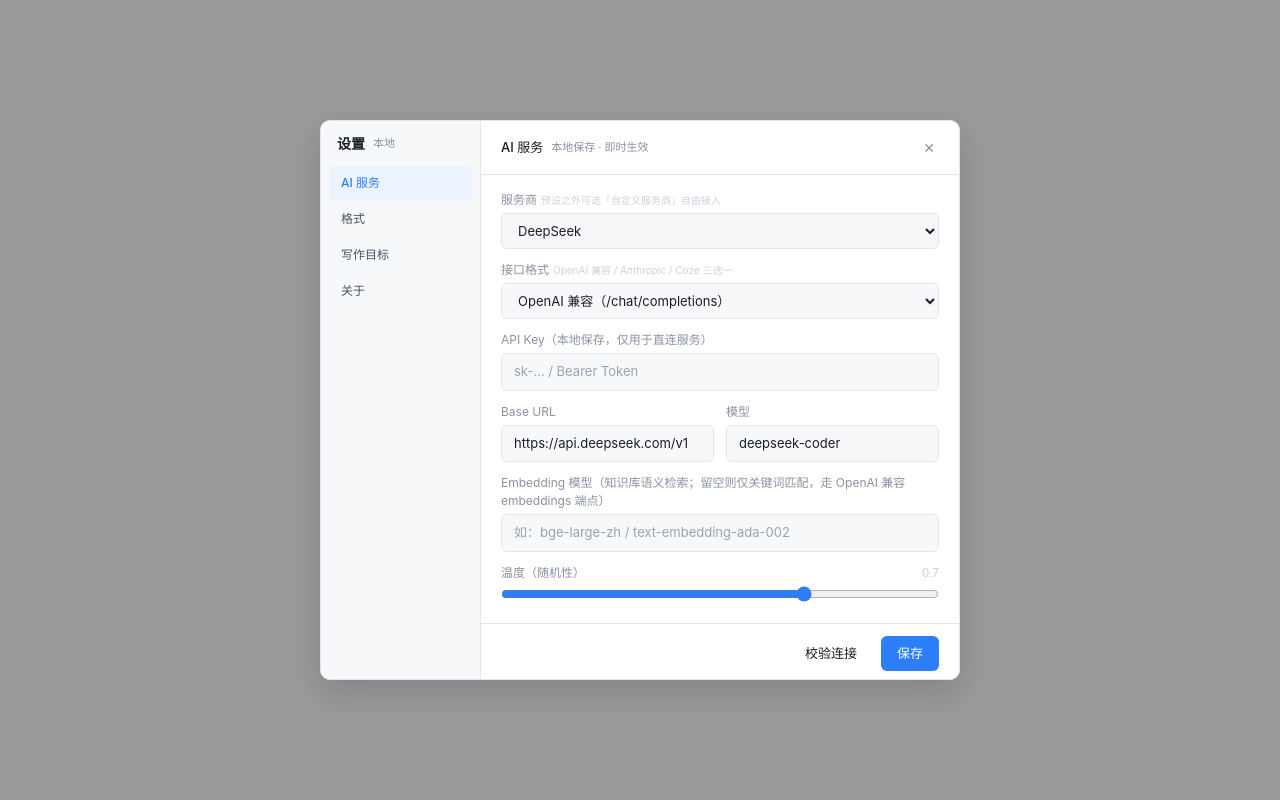
Test: 设置弹窗：左右分栏（左侧固定侧边栏 + 右侧内容区） › 写作目标分类：展示今日已写 / 今日目标 / 完成进度等字数指标
Click the button "写作目标": {"x": 400, "y": 255} left=329, top=238, right=472, bottom=272
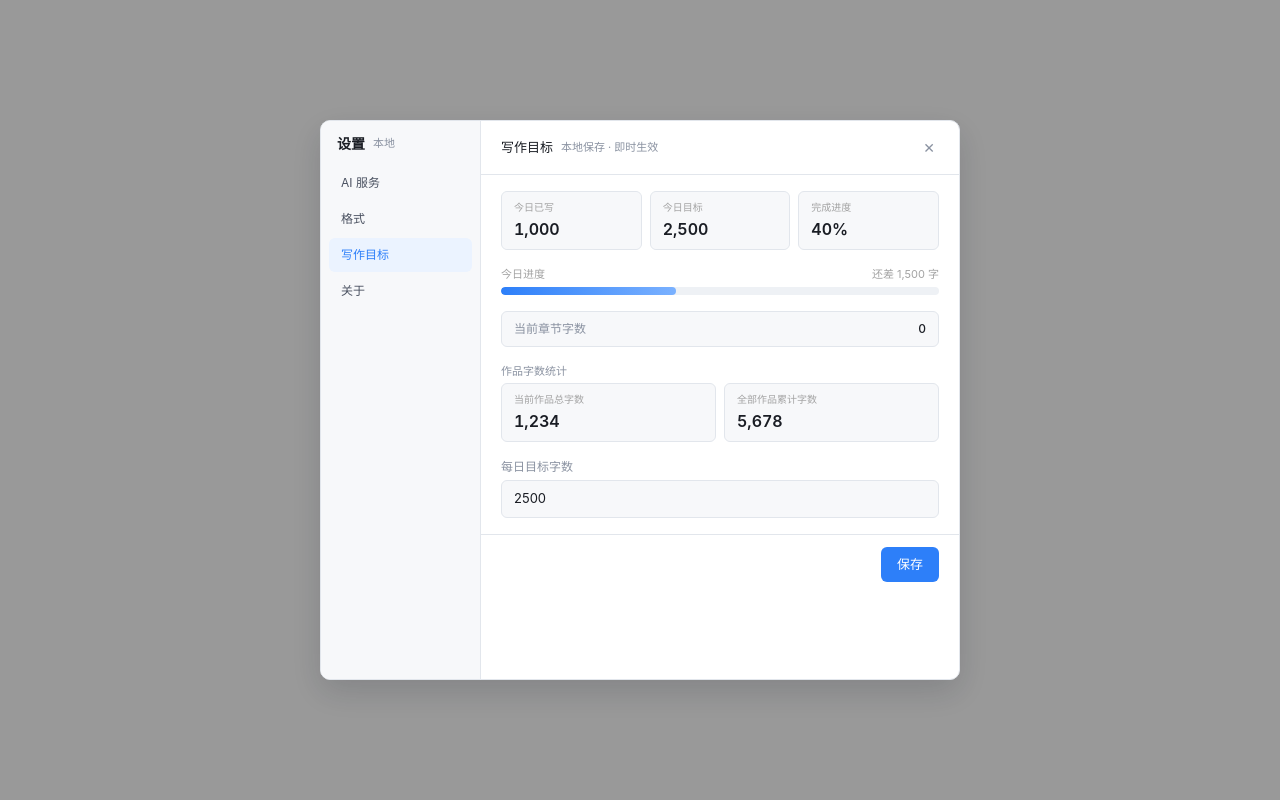
Now the text "1,000" is shown, box left=514, top=219, right=560, bottom=239
Now the text "今日已写" is shown, box left=514, top=201, right=554, bottom=213
Now the text "今日目标" is shown, box left=663, top=201, right=703, bottom=213
